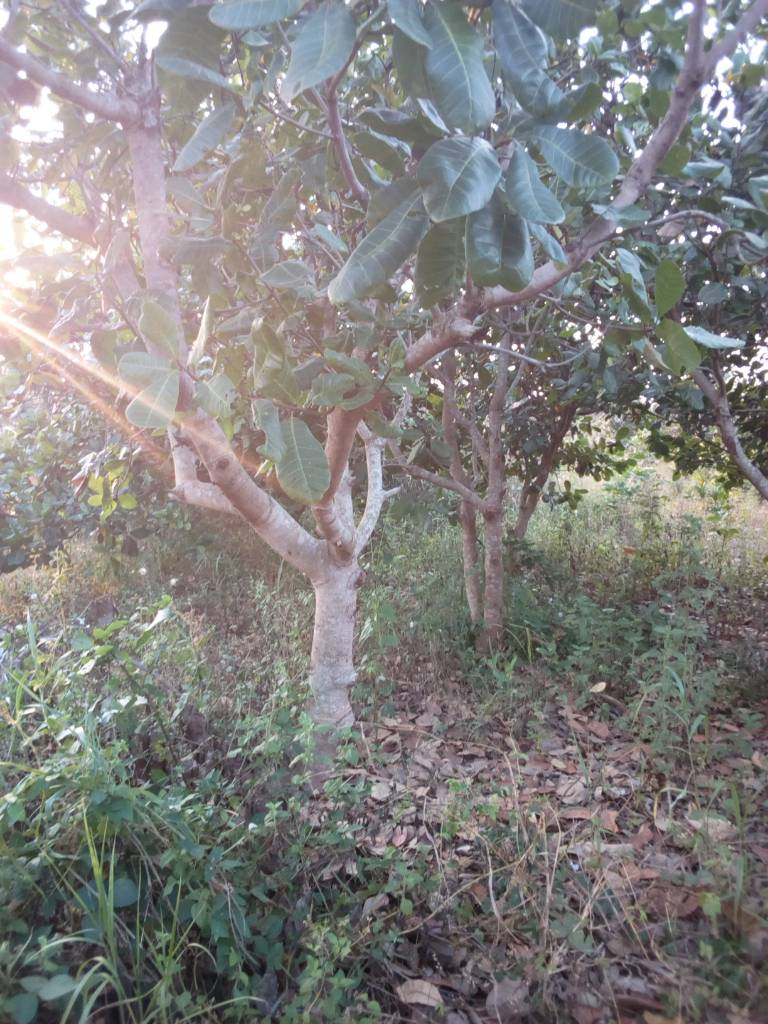Helopeltis anacardii: (496, 13, 607, 121), (418, 136, 496, 222), (463, 233, 535, 291)
